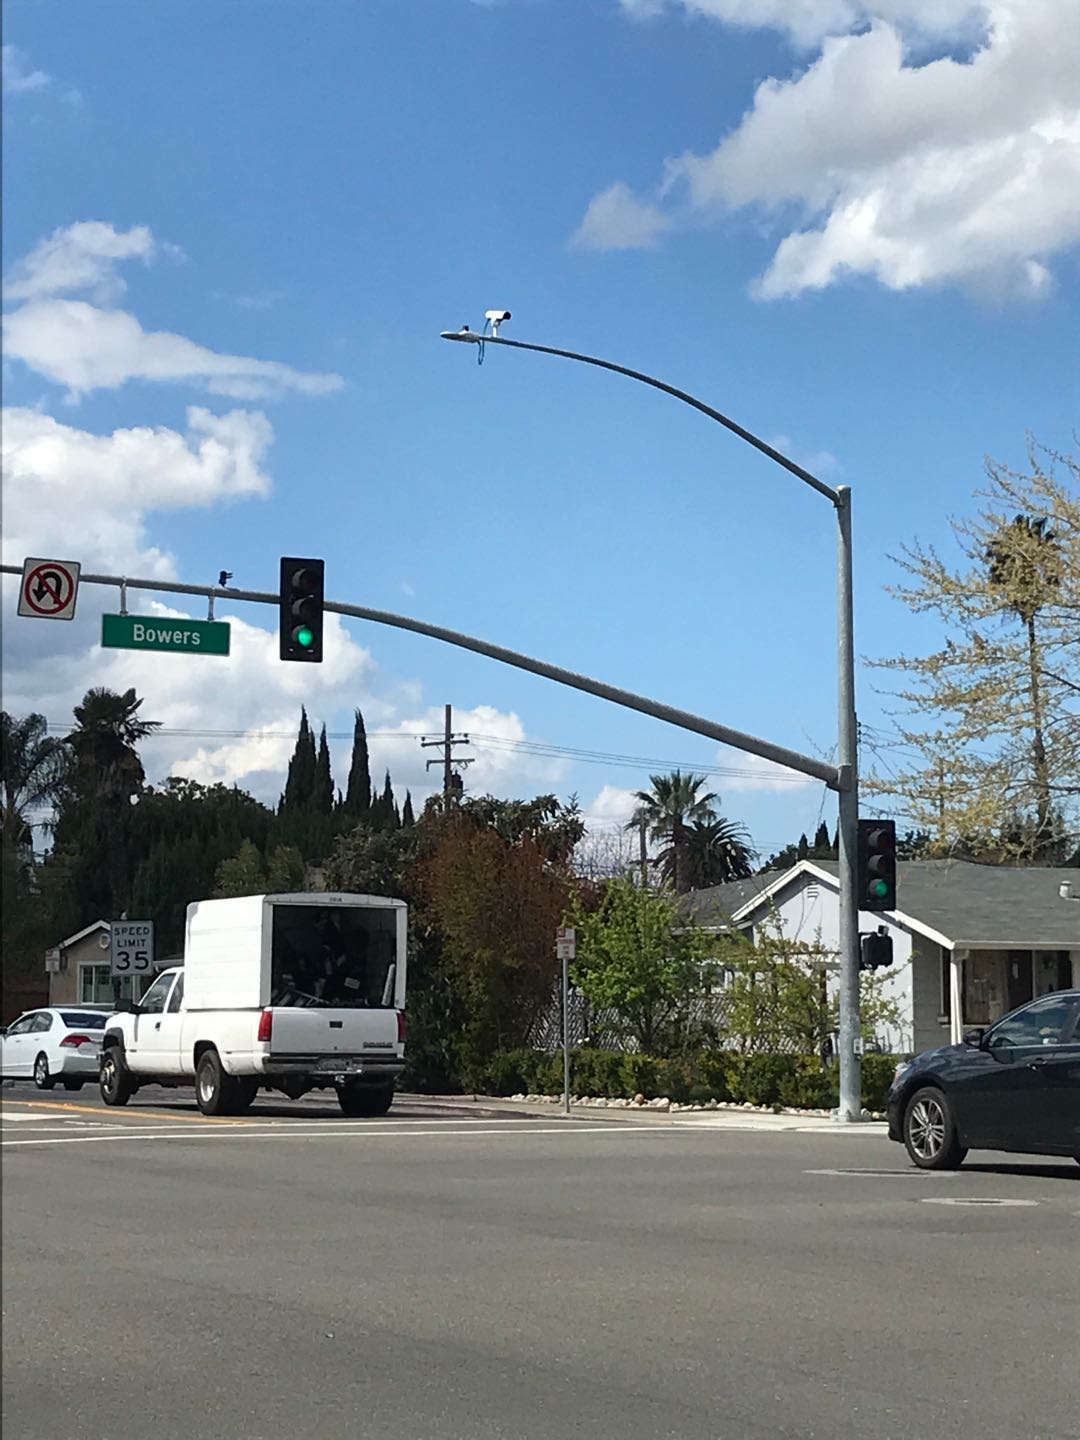green_light: (282, 558, 322, 657), (859, 825, 895, 904)
